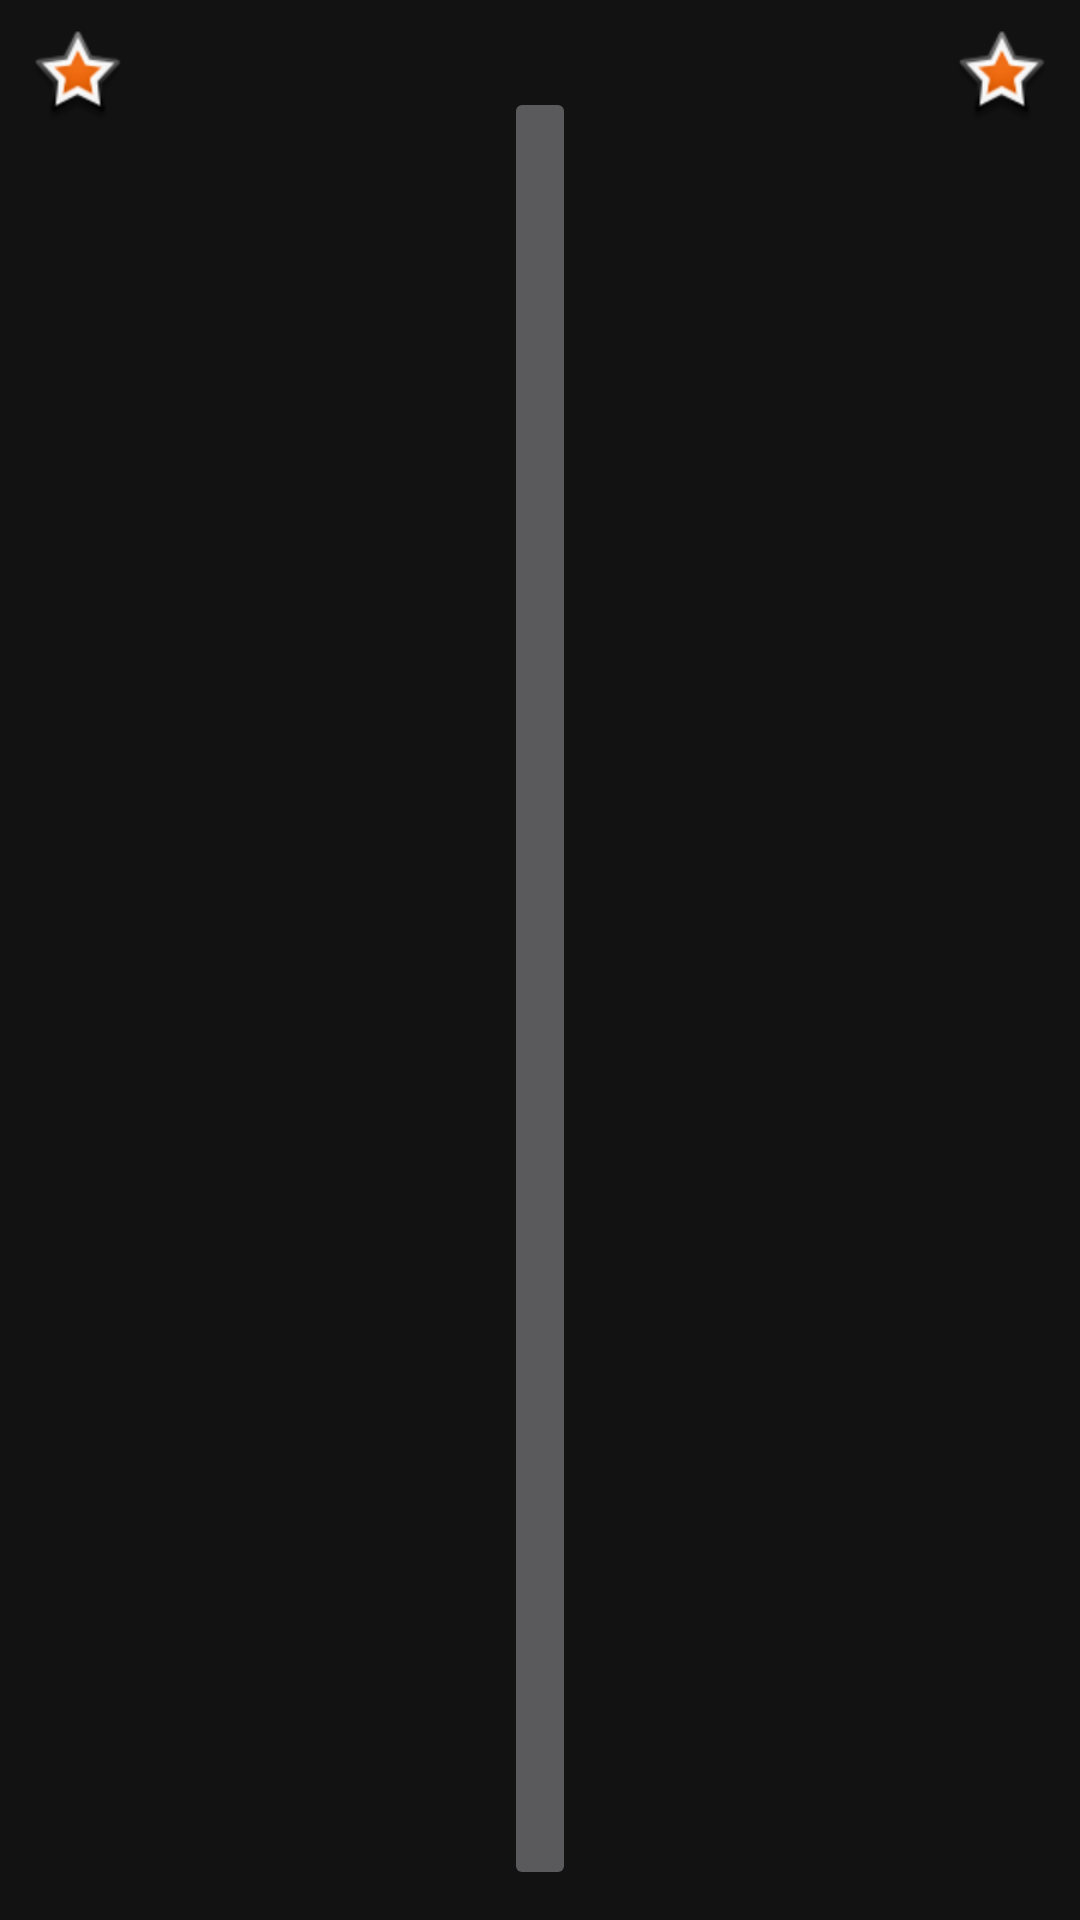

Icon bounding boxes for this 1080x1920 phone screenshot, format (x1, y1, x2, y2):
star on: (36, 31, 120, 106), (960, 31, 1044, 106)
